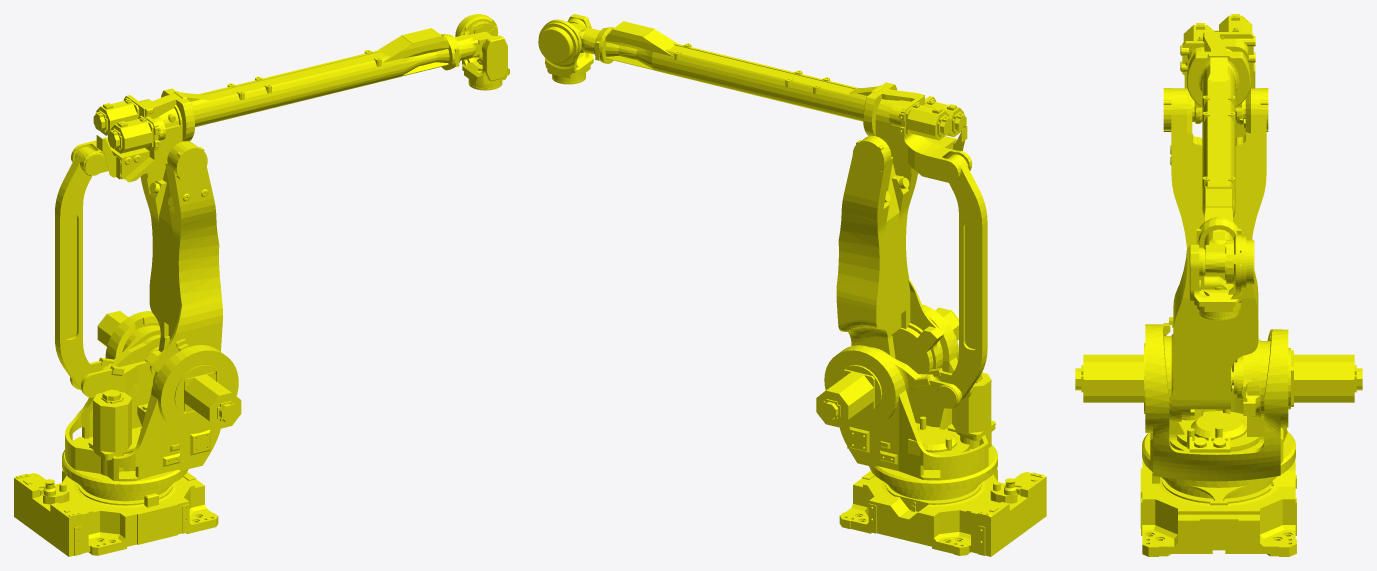
File: fanuc-M-410iB-140H.mujin.dae
3 renders of one model, left to right at view 1: azimuth 30°, elevation 25°; view 2: azimuth 150°, elevation 25°; view 3: azimuth 270°, elevation 25°, orthographic. The views are drawn at different scales.
Parts seen in each view (by area): view 1: link1, link3, link2, link0, link2_2, link2_1, link4; view 2: link1, link3, link2, link0, link2_2, link4, link2_1; view 3: link1, link2, link3, link0, link4, link2_1.
Boxes of the visible parts, x1,y1,x2,y2 form: link1: [62, 310, 241, 492]; link3: [71, 21, 497, 182]; link2: [140, 141, 222, 383]; link0: [14, 470, 218, 556]; link2_2: [55, 146, 95, 390]; link2_1: [70, 327, 160, 397]; link4: [455, 14, 509, 88]; link1: [816, 304, 997, 491]; link3: [567, 21, 972, 183]; link2: [836, 135, 944, 374]; link0: [839, 469, 1046, 556]; link2_2: [946, 154, 987, 400]; link4: [538, 14, 593, 82]; link2_1: [870, 347, 971, 408]; link1: [1075, 323, 1362, 505]; link2: [1163, 88, 1268, 421]; link3: [1180, 14, 1255, 283]; link0: [1140, 461, 1296, 556]; link4: [1189, 234, 1254, 318]; link2_1: [1232, 321, 1260, 417].
Size of the model in its own units: 2.54 by 1.12 by 2.15.
